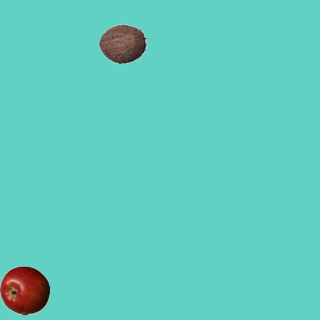Apple Braeburn: (0, 265, 49, 315)
Cocos: (97, 18, 147, 68)
